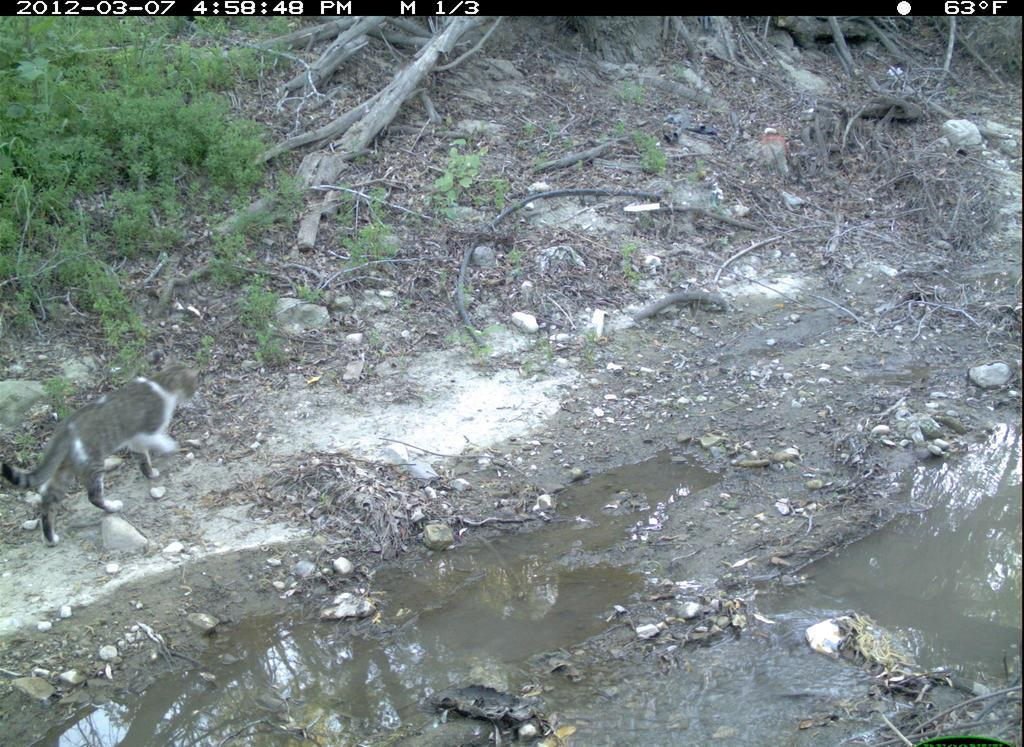cat: (1, 345, 214, 552)
